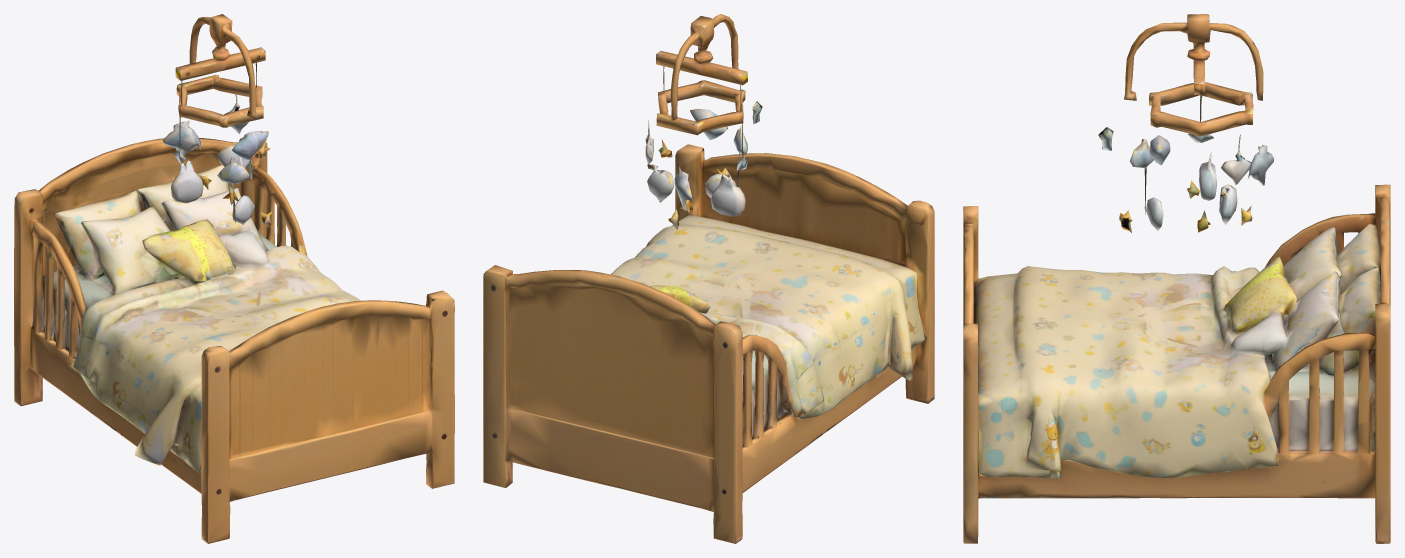
Rendered from lit.glb.
3 renders of one model, left to right at view 1: azimuth 30°, elevation 25°; view 2: azimuth 150°, elevation 25°; view 3: azimuth 270°, elevation 25°, orthographic. The views are drawn at different scales.
Size of the model in its own units: 1.43 by 2 by 1.69.
1 material, 1 textured.
